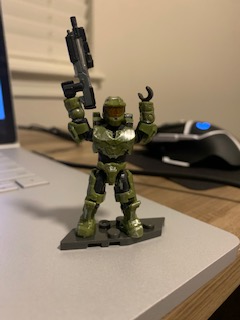chief: (59, 79, 157, 240)
rifle: (60, 15, 96, 111)
spartan: (57, 77, 155, 238)
up: (59, 80, 156, 162)
